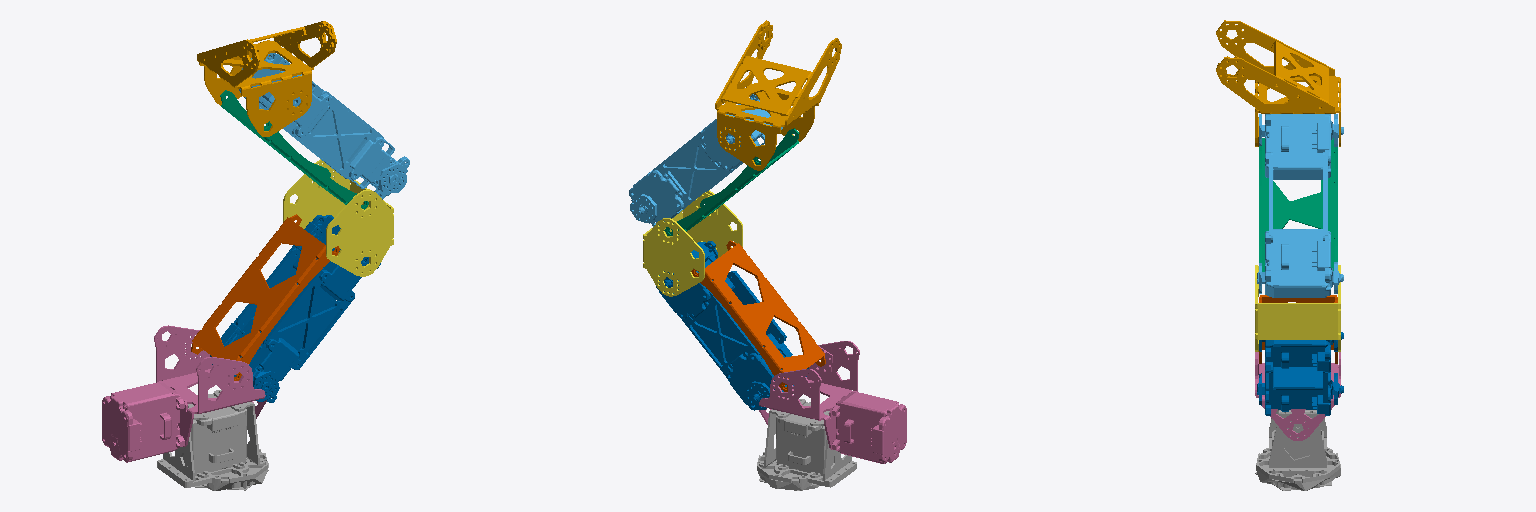
The robot description file, URDF, robot "ginko":
<?xml version="1.0" ?>
<!-- =================================================================================== -->
<!-- |    This document was autogenerated by xacro from leg_l_test.urdf.xacro          | -->
<!-- |    EDITING THIS FILE BY HAND IS NOT RECOMMENDED                                 | -->
<!-- =================================================================================== -->
<robot name="ginko" xmlns:xacro="http://www.ros.org/wiki/xacro">

  <link name="leg_l_link0">
    <!-- Collision created from STL mesh without color -->
    <collision>
      <origin rpy="0 0 0" xyz="0 0 0"/>
      <geometry>
        <mesh filename="package://ginko_description/meshes/stl/link02_l_femoral.stl"/>
      </geometry>
    </collision>
    <!-- Visualisation created from Color dae -->
    <visual>
      <origin rpy="0 0 0" xyz="0 0 0"/>
      <geometry>
        <mesh filename="package://ginko_description/meshes/stl/link02_l_femoral.stl"/>
        <!-- <mesh filename="package://ginko_description/models/ginko_auto/meshes/dae/link02_l_femoral.dae"/> -->
      </geometry>
    </visual>
    <inertial>
      <mass value="0.03433352"/>
      <origin rpy="0 0 0" xyz="0.02930795 0.03723759 -0.02605386"/>
      <inertia ixx="0.00002443" ixy="-0.00000021" ixz="-0.00000021" iyy="0.00002287" iyz="-0.00000391" izz="0.00002983"/>
    </inertial>
  </link>

  <!-- parallel link (upper-1st) -->
  <link name="leg_l_link1">
    <!-- Collision created from STL mesh without color -->
    <collision>
      <origin rpy="0 0 0" xyz="0 0 0"/>
      <geometry>
        <mesh filename="package://ginko_description/meshes/stl/link03_l_leg01.stl"/>
      </geometry>
    </collision>
    <!-- Visualisation created from Color dae -->
    <visual>
      <origin rpy="0 0 0" xyz="0 0 0"/>
      <geometry>
        <mesh filename="package://ginko_description/meshes/stl/link03_l_leg01.stl"/>
        <!-- <mesh filename="package://ginko_description/models/ginko_auto/meshes/dae/link03_l_leg01.dae"/> -->
      </geometry>
    </visual>
    <inertial>
      <mass value="0.18525692"/>
      <origin rpy="0 0 0" xyz="0.05000000 0.03285059 0.00068146"/>
      <inertia ixx="0.00041331" ixy="-0.00003605" ixz="-0.00000000" iyy="0.00027917" iyz="-0.00000184" izz="0.00066510"/>
    </inertial>
  </link>
  <joint name="leg_l_joint1" type="revolute">
    <parent link="leg_l_link0"/>
    <child link="leg_l_link1"/>
    <origin rpy="0 0.7854 0" xyz="0.0433 0.0175 -0.0481"/>
    <axis xyz="0 -1 0"/>
    <limit effort="1000.0" lower="-1.3" upper="0.7854" velocity="0.5"/>
  </joint>
  <!-- parallel link (upper-2nd) -->
  <link name="leg_l_link2">
    <!-- Collision created from STL mesh without color -->
    <collision>
      <origin rpy="0 0 0" xyz="0 0 0"/>
      <geometry>
        <mesh filename="package://ginko_description/meshes/stl/link04_l_leg02.stl"/>
      </geometry>
    </collision>
    <!-- Visualisation created from Color dae -->
    <visual>
      <origin rpy="0 0 0" xyz="0 0 0"/>
      <geometry>
        <mesh filename="package://ginko_description/meshes/stl/link04_l_leg02.stl"/>
        <!-- <mesh filename="package://ginko_description/models/ginko_auto/meshes/dae/link04_l_leg02.dae"/> -->
      </geometry>
    </visual>
    <inertial>
      <mass value="0.01646643"/>
      <origin rpy="0 0 0" xyz="0.05000000 0.02495100 -0.00491150"/>
      <inertia ixx="0.00000640" ixy="0.00000000" ixz="0.00000000" iyy="0.00001642" iyz="0.00000000" izz="0.00002264"/>
    </inertial>
  </link>
  <joint name="leg_l_joint2" type="revolute">
    <parent link="leg_l_link0"/>
    <child link="leg_l_link2"/>
    <origin rpy="0 0.7854 0" xyz="0.022 0.0175 -0.06015"/>
    <axis xyz="0 -1 0"/>
    <limit effort="1000.0" lower="-3.141593" upper="3.141593" velocity="0.5"/>
  </joint>
  <!-- knee -->
  <link name="leg_l_link3">
    <collision>
      <origin rpy="0 0 0" xyz="0 0 0"/>
      <geometry>
        <mesh filename="package://ginko_description/meshes/stl/link05_l_knee.stl"/>
      </geometry>
    </collision>
    <visual>
      <origin rpy="0 0 0" xyz="0 0 0"/>
      <geometry>
        <mesh filename="package://ginko_description/meshes/stl/link05_l_knee.stl"/>
        <!-- <mesh filename="package://ginko_description/models/ginko_auto/meshes/dae/link05_l_knee.dae"/> -->
      </geometry>
    </visual>
    <inertial>
      <mass value="0.01781176"/>
      <origin rpy="0 0 0" xyz="0.00393357 0.02364163 -0.01930000"/>
      <inertia ixx="0.00001301" ixy="0.00000008" ixz="0.00000000" iyy="0.00000700" iyz="0.00000000" izz="0.00001388"/>
    </inertial>
  </link>
<!--   <joint name="leg_l_joint3" type="revolute">
    <parent link="leg_l_link1"/>
    <child link="leg_l_link3"/>
    <origin rpy="0 -0.7854 0" xyz="0.1 0.0 0.0"/>
    <axis xyz="0 1 0"/>
    <limit effort="1000.0" lower="-3.141593" upper="3.141593" velocity="0.5"/>
  </joint> -->
  <joint name="leg_l_joint3_sub" type="revolute">
    <parent link="leg_l_link2"/>
    <child link="leg_l_link3"/>
    <origin rpy="0 -0.7854 0" xyz="0.1 0.0 0.0"/>
    <axis xyz="0 1 0"/>
    <limit effort="1000.0" lower="-3.141593" upper="3.141593" velocity="0.5"/>
  </joint>
  <!-- parallel link (lower-1st) -->
  <link name="leg_l_link4">
    <collision>
      <origin rpy="0 0 0" xyz="0 0 0"/>
      <geometry>
        <mesh filename="package://ginko_description/meshes/stl/link03_l_leg01.stl"/>
      </geometry>
    </collision>
    <visual>
      <origin rpy="0 0 0" xyz="0 0 0"/>
      <geometry>
        <mesh filename="package://ginko_description/meshes/stl/link03_l_leg01.stl"/>
      </geometry>
    </visual>
    <inertial>
      <mass value="0.18525692"/>
      <origin rpy="0 0 0" xyz="0.05000000 0.03285059 0.00068146"/>
      <inertia ixx="0.00041331" ixy="-0.00003605" ixz="-0.00000000" iyy="0.00027917" iyz="-0.00000184" izz="0.00066510"/>
    </inertial>
  </link>
  <joint name="leg_l_joint4" type="revolute">
    <parent link="leg_l_link3"/>
    <child link="leg_l_link4"/>
    <origin rpy="0 2.3562 0" xyz="0 0 -0.0386"/>
    <axis xyz="0 -1 0"/>
    <limit effort="1000.0" lower="-0.7854" upper="1.3" velocity="0.5"/>
  </joint>
  <!-- parallel link (lower-2nd) -->
  <link name="leg_l_link5">
    <collision>
      <origin rpy="0 0 0" xyz="0 0 0"/>
      <geometry>
        <mesh filename="package://ginko_description/meshes/stl/link04_l_leg02.stl"/>
      </geometry>
    </collision>
    <visual>
      <origin rpy="0 0 0" xyz="0 0 0"/>
      <geometry>
        <mesh filename="package://ginko_description/meshes/stl/link04_l_leg02.stl"/>
      </geometry>
    </visual>
    <inertial>
      <mass value="0.01646643"/>
      <origin rpy="0 0 0" xyz="0.05000000 0.02495100 -0.00491150"/>
      <inertia ixx="0.00000640" ixy="0.00000000" ixz="0.00000000" iyy="0.00001642" iyz="0.00000000" izz="0.00002264"/>
    </inertial>
  </link>
  <joint name="leg_l_joint5" type="revolute">
    <parent link="leg_l_link3"/>
    <child link="leg_l_link5"/>
    <origin rpy="0 2.3562 0" xyz="-0.0213 0 -0.02655"/>
    <axis xyz="0 -1 0"/>
    <limit effort="1000.0" lower="-3.141593" upper="3.141593" velocity="0.5"/>
  </joint>
  <!-- toe -->
  <link name="leg_l_link6">
    <collision>
      <origin rpy="0 0 0" xyz="0 0 0"/>
      <geometry>
        <mesh filename="package://ginko_description/meshes/stl/link06_l_toe01.stl"/>
      </geometry>
    </collision>
    <visual>
      <origin rpy="0 0 0" xyz="0 0 0"/>
      <geometry>
        <mesh filename="package://ginko_description/meshes/stl/link06_l_toe01.stl"/>
      </geometry>
    </visual>
    <inertial>
      <mass value="0.08799204"/>
      <origin rpy="0 0 0" xyz="-0.04166125 0.02463880 -0.02586249"/>
      <inertia ixx="0.00002815" ixy="-0.00000041" ixz="0.00000980" iyy="0.00006846" iyz="-0.00000026" izz="0.00006529"/>
    </inertial>
  </link>
<!--   <joint name="leg_l_joint6" type="revolute">
    <parent link="leg_l_link4"/>
    <child link="leg_l_link6"/>
    <origin rpy="0 -2.3562 0" xyz="0.1 0.0 0.0"/>
    <axis xyz="0 1 0"/>
    <limit effort="1000.0" lower="-3.141593" upper="3.141593" velocity="0.5"/>
  </joint> -->
  <joint name="leg_l_joint6_sub" type="revolute">
    <parent link="leg_l_link5"/>
    <child link="leg_l_link6"/>
    <origin rpy="0 -2.3562 0" xyz="0.1 0.0 0.0"/>
    <axis xyz="0 1 0"/>
    <limit effort="1000.0" lower="-3.141593" upper="3.141593" velocity="0.5"/>
  </joint>
  <link name="leg_l_link7">
    <collision>
      <origin rpy="0 0 0" xyz="0 0 0"/>
      <geometry>
        <mesh filename="package://ginko_description/meshes/stl/link07_l_toe02.stl"/>
      </geometry>
    </collision>
    <visual>
      <origin rpy="0 0 0" xyz="0 0 0"/>
      <geometry>
        <mesh filename="package://ginko_description/meshes/stl/link07_l_toe02.stl"/>
      </geometry>
    </visual>
    <inertial>
      <mass value="0.10920041"/>
      <origin rpy="0 0 0" xyz="0.02658756 0.00000053 -0.01782468"/>
      <inertia ixx="0.00003853" ixy="0.00000000" ixz="-0.00000479" iyy="0.00005192" iyz="0.00000000" izz="0.00003521"/>
    </inertial>
  </link>
  <joint name="leg_l_joint7" type="revolute">
    <parent link="leg_l_link6"/>
    <child link="leg_l_link7"/>
    <origin rpy="0 0 0" xyz="-0.028 0.02475 -0.0391"/>
    <axis xyz="-1 0 0"/>
    <limit effort="1000.0" lower="-1.6" upper="1.6" velocity="0.5"/>
  </joint>
  <link name="leg_l_link8">
    <collision>
      <origin rpy="0 0 0" xyz="0 0 0"/>
      <geometry>
        <mesh filename="package://ginko_description/meshes/stl/link08_l_toe03.stl"/>
      </geometry>
    </collision>
    <visual>
      <origin rpy="0 0 0" xyz="0 0 0"/>
      <geometry>
        <mesh filename="package://ginko_description/meshes/stl/link08_l_toe03.stl"/>
      </geometry>
    </visual>
    <inertial>
      <mass value="0.05363111"/>
      <origin rpy="0 0 0" xyz="0.00000000 0.00000000 -0.00269342"/>
      <inertia ixx="0.00002877" ixy="0.00000000" ixz="0.00000000" iyy="0.00007083" iyz="-0.00000000" izz="0.00009934"/>
    </inertial>
  </link>
  <joint name="leg_l_joint8" type="revolute">
    <parent link="leg_l_link7"/>
    <child link="leg_l_link8"/>
    <origin rpy="0 0 0" xyz="0.0342 0 -0.04"/>
    <axis xyz="0 0 1"/>
    <limit effort="1000.0" lower="-2.6" upper="2.6" velocity="0.5"/>
  </joint>

</robot>

--- Facts derived from the render (not from the file) ---
3 views of the same robot in one strip: view 1: azimuth 30°, elevation 25°; view 2: azimuth 150°, elevation 25°; view 3: azimuth 270°, elevation 25° (orthographic).
Model ginko with 9 links and 8 joints (8 revolute), rooted at leg_l_link0, posed all joints at 0.
Visible links, largest first — view 1: leg_l_link6, leg_l_link4, leg_l_link0, leg_l_link1, leg_l_link5, leg_l_link7, leg_l_link3, leg_l_link2; view 2: leg_l_link6, leg_l_link0, leg_l_link4, leg_l_link1, leg_l_link5, leg_l_link7, leg_l_link3, leg_l_link2; view 3: leg_l_link1, leg_l_link0, leg_l_link4, leg_l_link7, leg_l_link2, leg_l_link3, leg_l_link6, leg_l_link5.
Boxes of the visible links, left/top/right/bottom form: leg_l_link6: left=102, top=325, right=266, bottom=462; leg_l_link4: left=210, top=215, right=380, bottom=402; leg_l_link0: left=197, top=21, right=336, bottom=136; leg_l_link1: left=239, top=53, right=409, bottom=199; leg_l_link5: left=191, top=214, right=339, bottom=380; leg_l_link7: left=157, top=390, right=268, bottom=490; leg_l_link3: left=283, top=159, right=393, bottom=276; leg_l_link2: left=220, top=90, right=368, bottom=209; leg_l_link6: left=759, top=341, right=906, bottom=463; leg_l_link0: left=715, top=20, right=841, bottom=170; leg_l_link4: left=656, top=241, right=808, bottom=410; leg_l_link1: left=629, top=94, right=782, bottom=226; leg_l_link5: left=691, top=240, right=825, bottom=391; leg_l_link7: left=757, top=398, right=856, bottom=490; leg_l_link3: left=643, top=190, right=742, bottom=296; leg_l_link2: left=664, top=128, right=799, bottom=235; leg_l_link1: left=1257, top=114, right=1343, bottom=297; leg_l_link0: left=1216, top=20, right=1340, bottom=146; leg_l_link4: left=1257, top=332, right=1343, bottom=415; leg_l_link7: left=1255, top=410, right=1340, bottom=490; leg_l_link2: left=1259, top=138, right=1337, bottom=271; leg_l_link3: left=1255, top=265, right=1340, bottom=351; leg_l_link6: left=1255, top=352, right=1340, bottom=440; leg_l_link5: left=1259, top=295, right=1337, bottom=363.
Size in the robot's own frame: 0.2016 by 0.0822 by 0.3166 metres.
8 mesh visuals loaded from 7 distinct referenced files (6 binary STL); not drawn: 1 (reference not matched to a file when rendering).